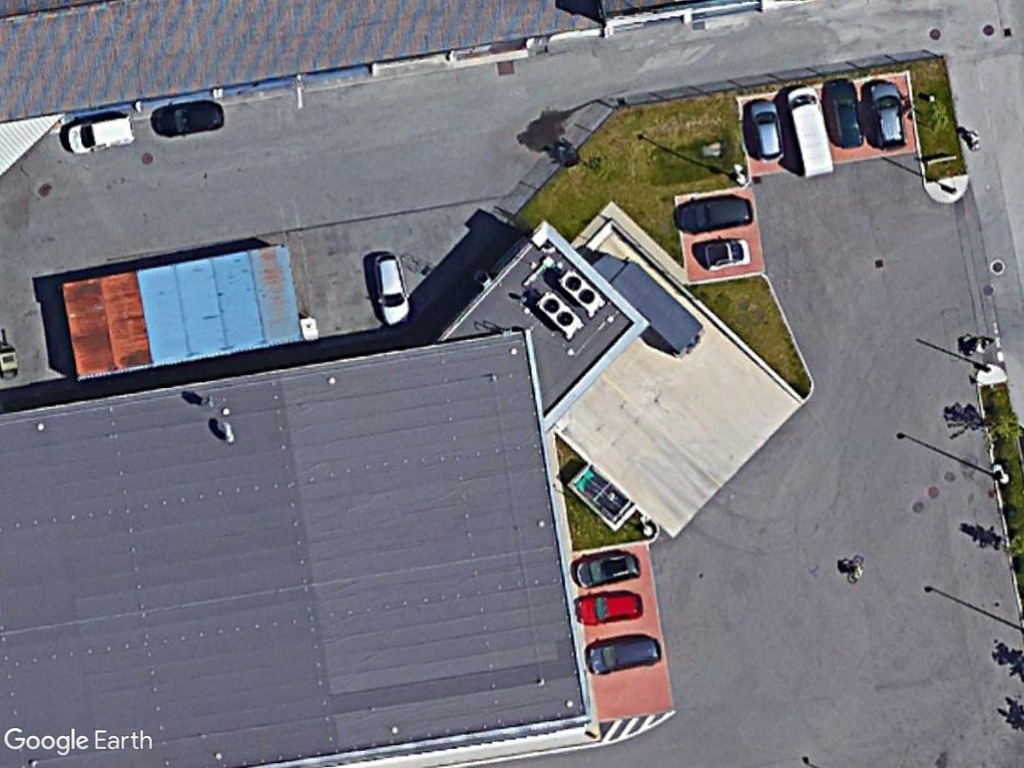car: (860, 71, 909, 152), (366, 247, 413, 331), (744, 94, 790, 170), (568, 586, 646, 630)
van: (783, 81, 836, 182), (60, 110, 138, 160)
